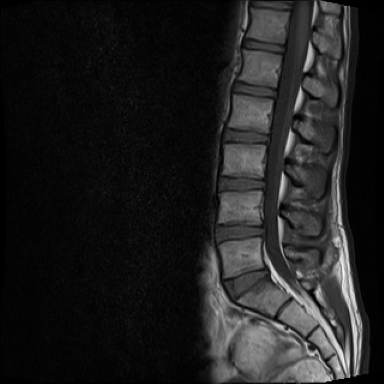Lumbar Disc Bulge (LDB): (215, 263, 274, 308), (212, 218, 272, 247)
Normal IVD: (218, 123, 274, 148), (213, 170, 271, 194), (229, 77, 281, 103), (239, 36, 289, 57)
Spinal Stenosis (SS): (252, 218, 272, 242), (258, 262, 273, 284)
